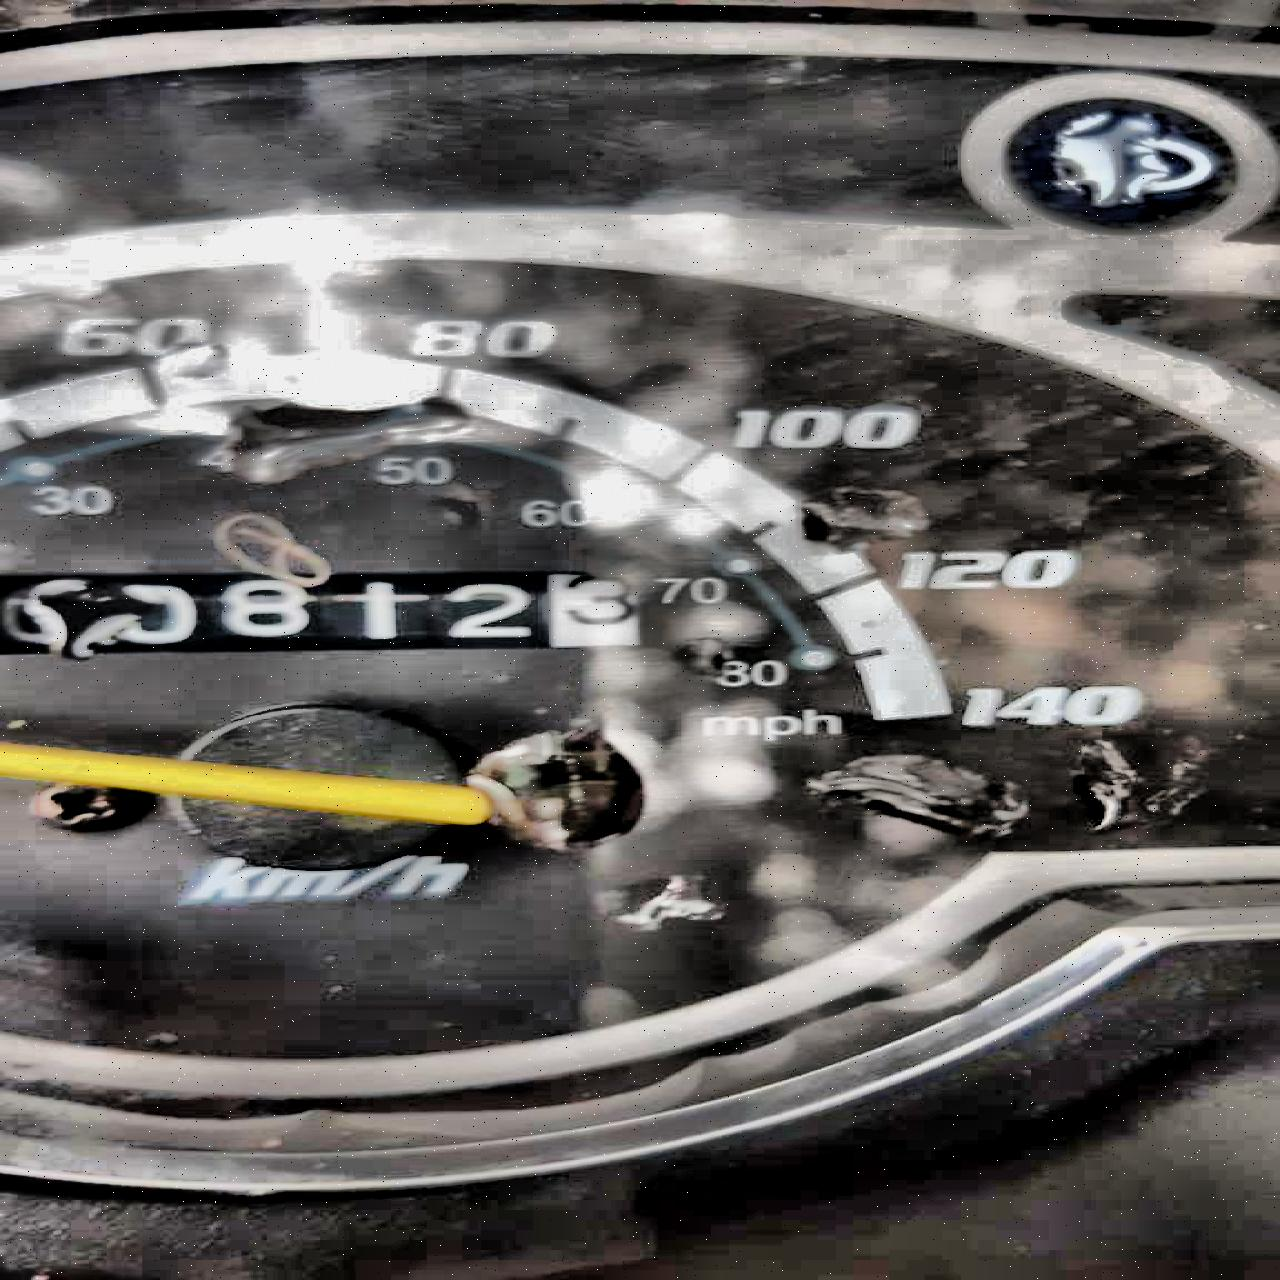0: (109, 578, 200, 647)
1: (335, 573, 411, 645)
3: (556, 568, 642, 636)
8: (216, 573, 305, 639)
odometer: (0, 561, 660, 660)
